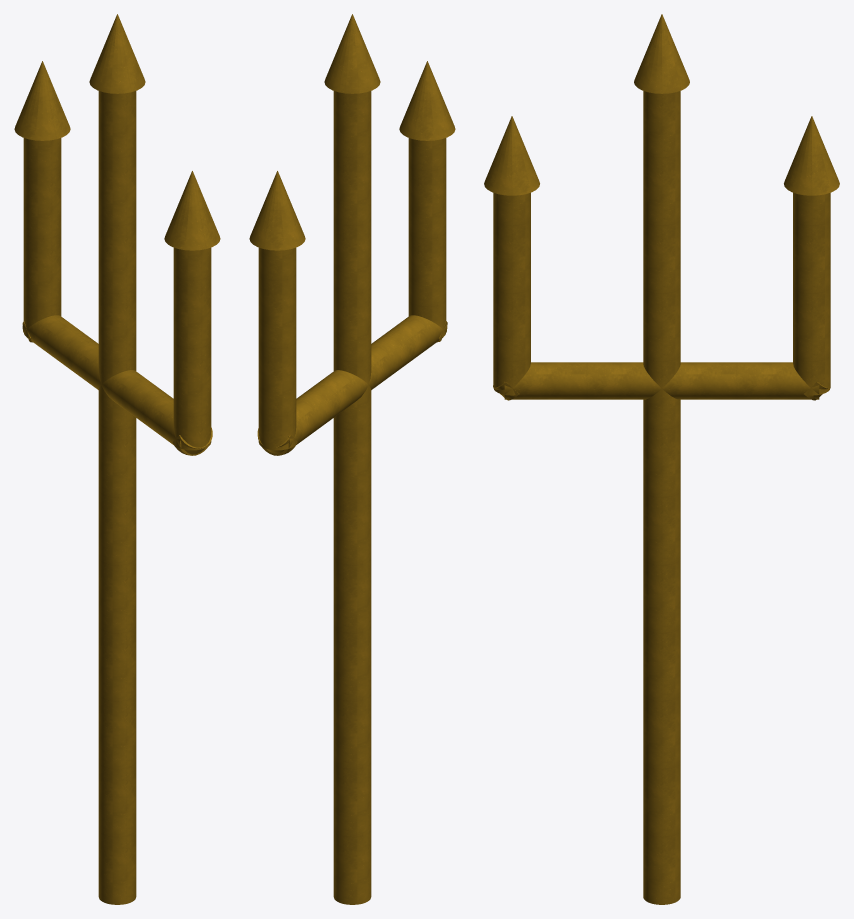
File: Trident.glb
3 views of the same model, side by side, from view 1: azimuth 30°, elevation 25°; view 2: azimuth 150°, elevation 25°; view 3: azimuth 270°, elevation 25° (orthographic).
Visible parts, largest first — view 1: mergedBlocks(Clone); view 2: mergedBlocks(Clone); view 3: mergedBlocks(Clone).
Part boxes in pixels (x1,y1,x2,y2): mergedBlocks(Clone): [14, 14, 220, 904]; mergedBlocks(Clone): [249, 14, 455, 904]; mergedBlocks(Clone): [484, 14, 839, 904].
Bounding box in the file's own units: 0.0375 × 0.65 × 0.2375.
Materials: 1 (1 with a texture image).
